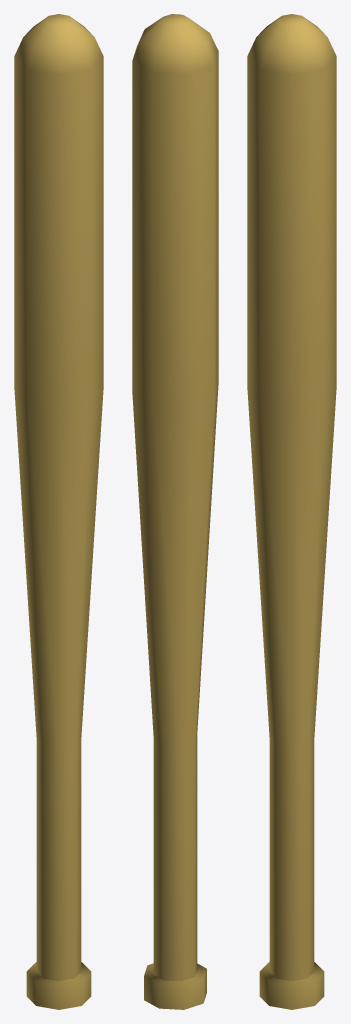
File: baseball bat.fbx
3 renders of one model, left to right at view 1: azimuth 90°, elevation 25°; view 2: azimuth 150°, elevation 25°; view 3: azimuth 270°, elevation 25°, orthographic.
Parts seen in each view (by area): view 1: bat; view 2: bat; view 3: bat.
Part boxes in pixels (<box>): bat: <box>14,14,103,1009</box>; bat: <box>132,14,218,1009</box>; bat: <box>247,14,336,1009</box>.
Bounding box in the file's own units: 200 × 2412 × 200.
